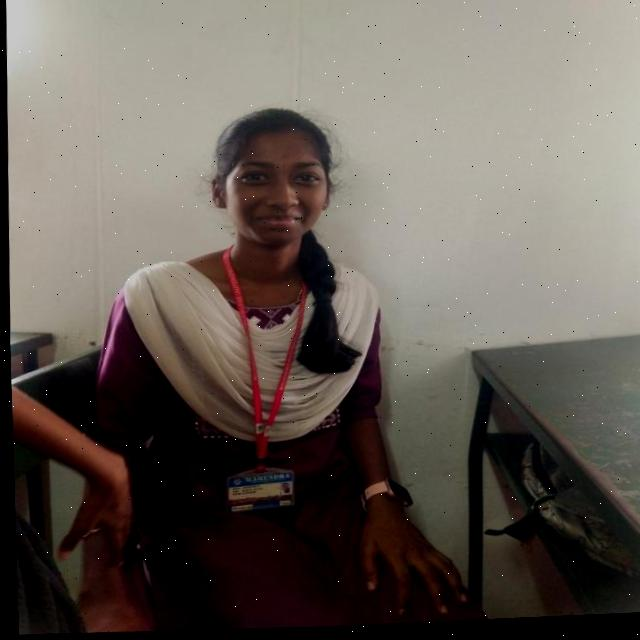id_card: (197, 253, 311, 525)
